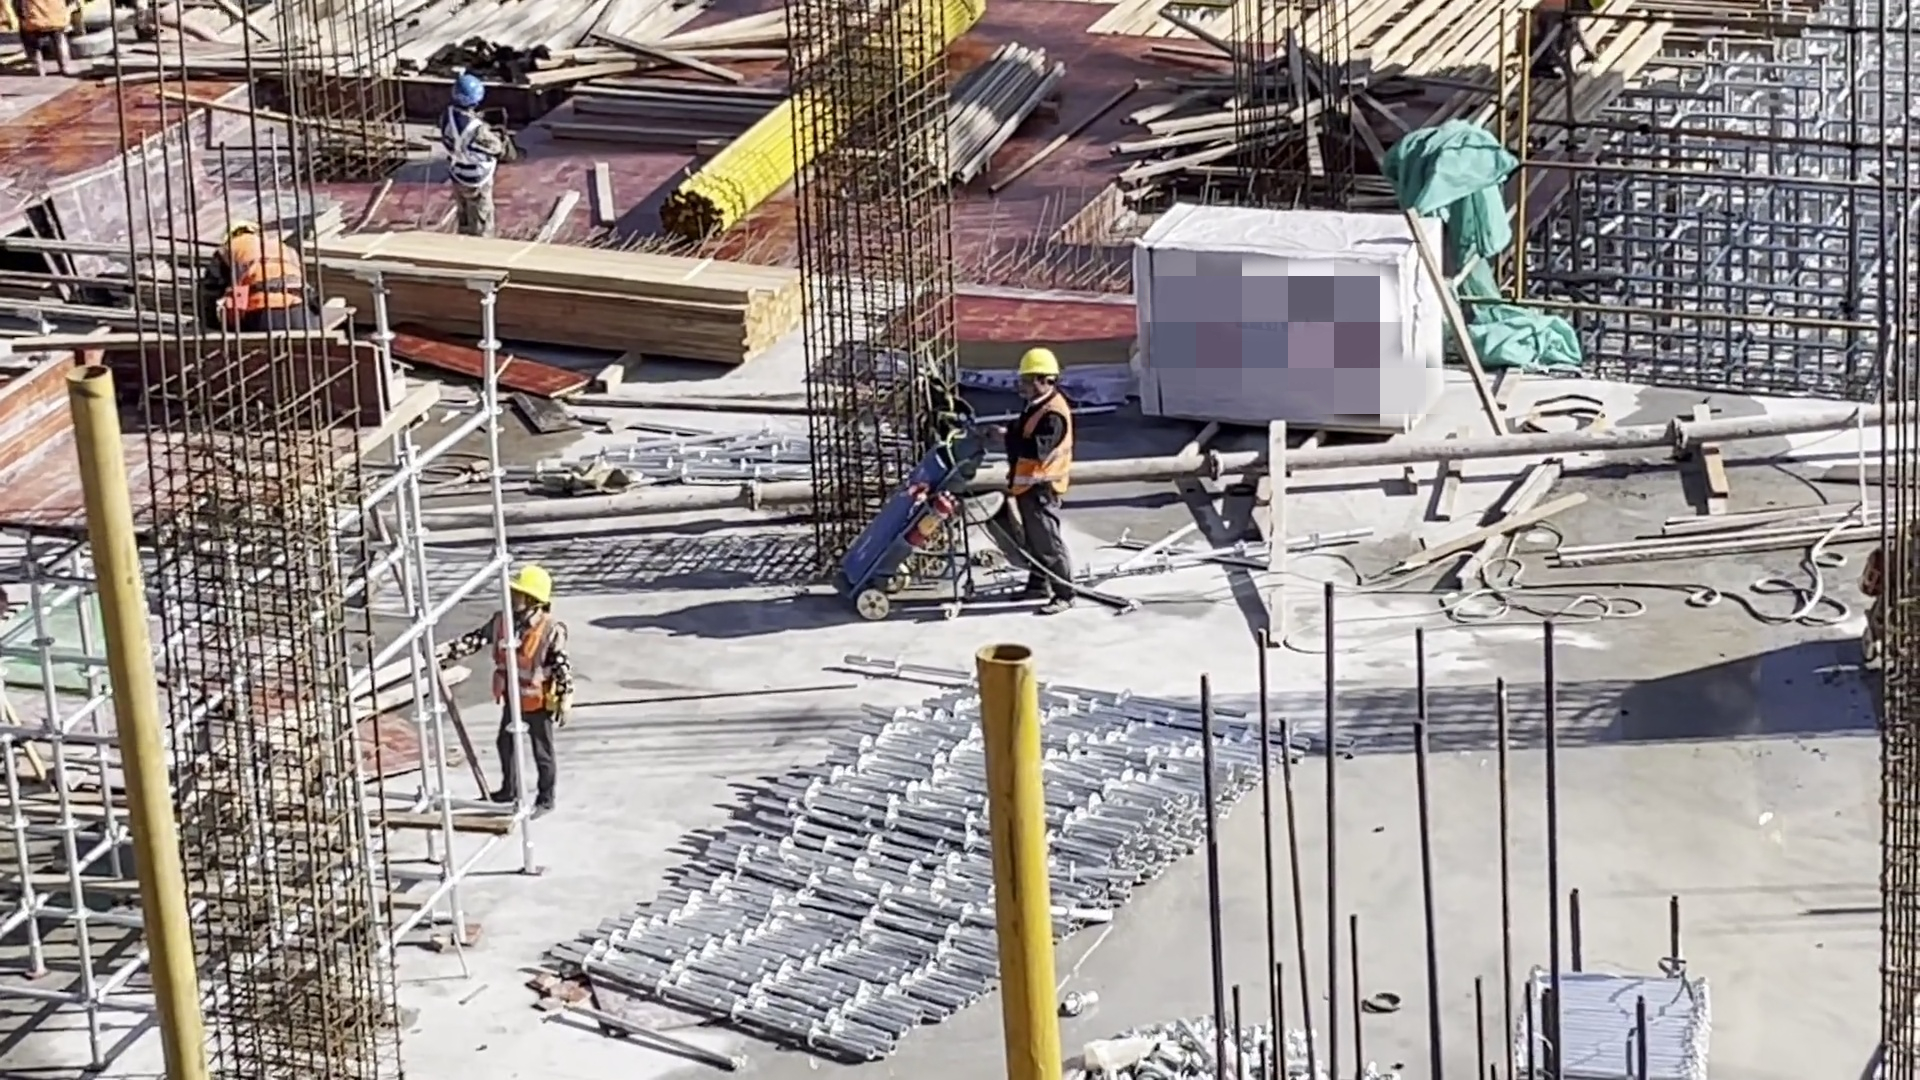helmet: (506, 564, 557, 598), (1017, 345, 1058, 376), (443, 73, 484, 99)
person: (441, 565, 582, 815), (997, 343, 1081, 611), (436, 71, 512, 248), (206, 232, 318, 334), (14, 3, 85, 76)
scaffold: (554, 648, 1359, 1080), (1513, 964, 1714, 1080)
vest: (495, 610, 559, 712), (1009, 394, 1067, 498), (229, 236, 302, 309), (440, 113, 499, 187)
wood: (321, 228, 807, 360)
